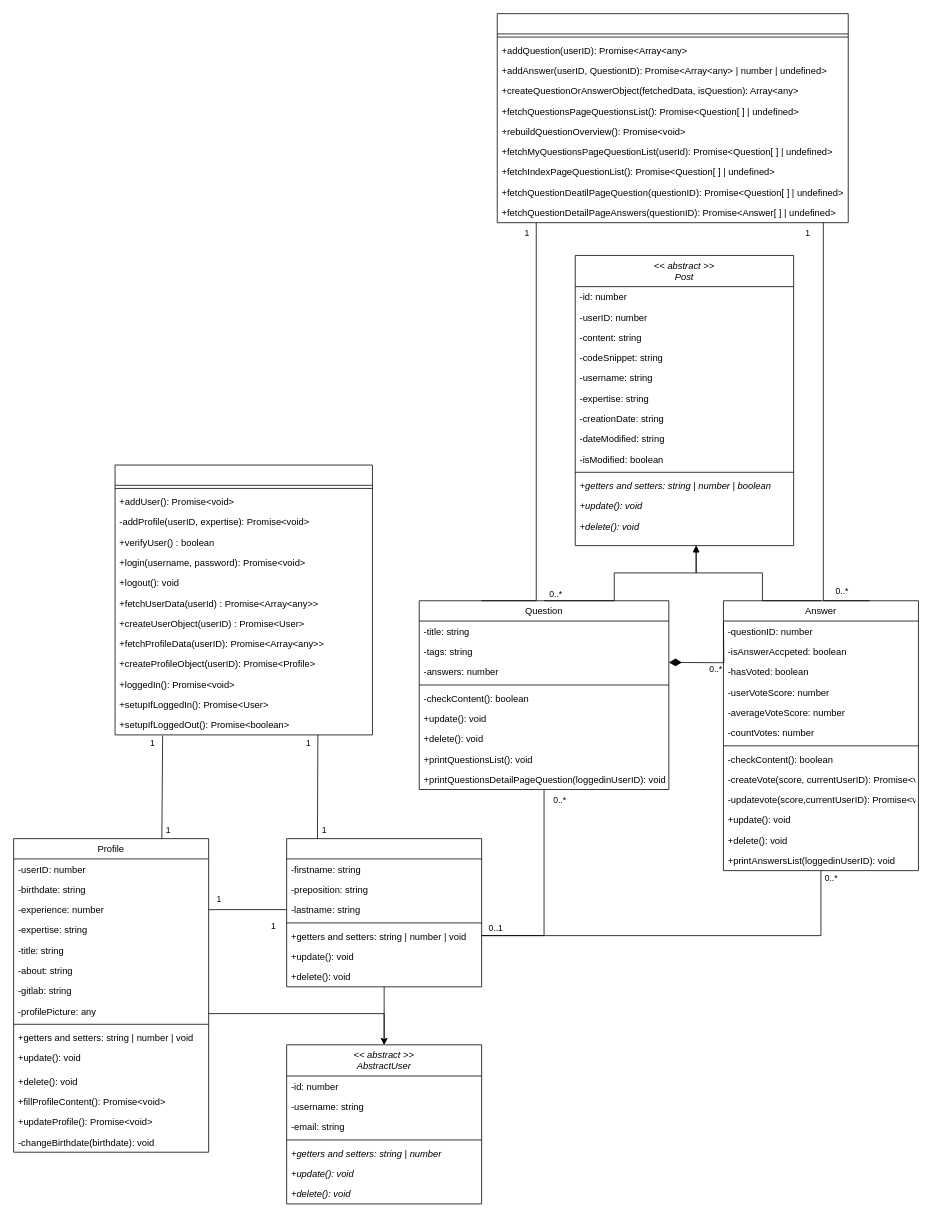
This 948x1220 diagram has some shape labels left out. Each missing label, with the box of its shape:
PostManager: (496, 13, 848, 223)
User: (286, 838, 482, 987)
UserManager: (114, 464, 372, 735)
